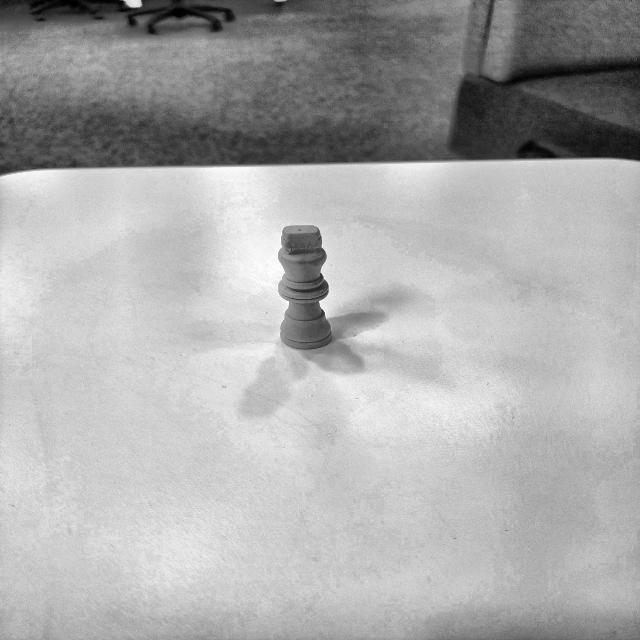white-king: (278, 225, 331, 349)
